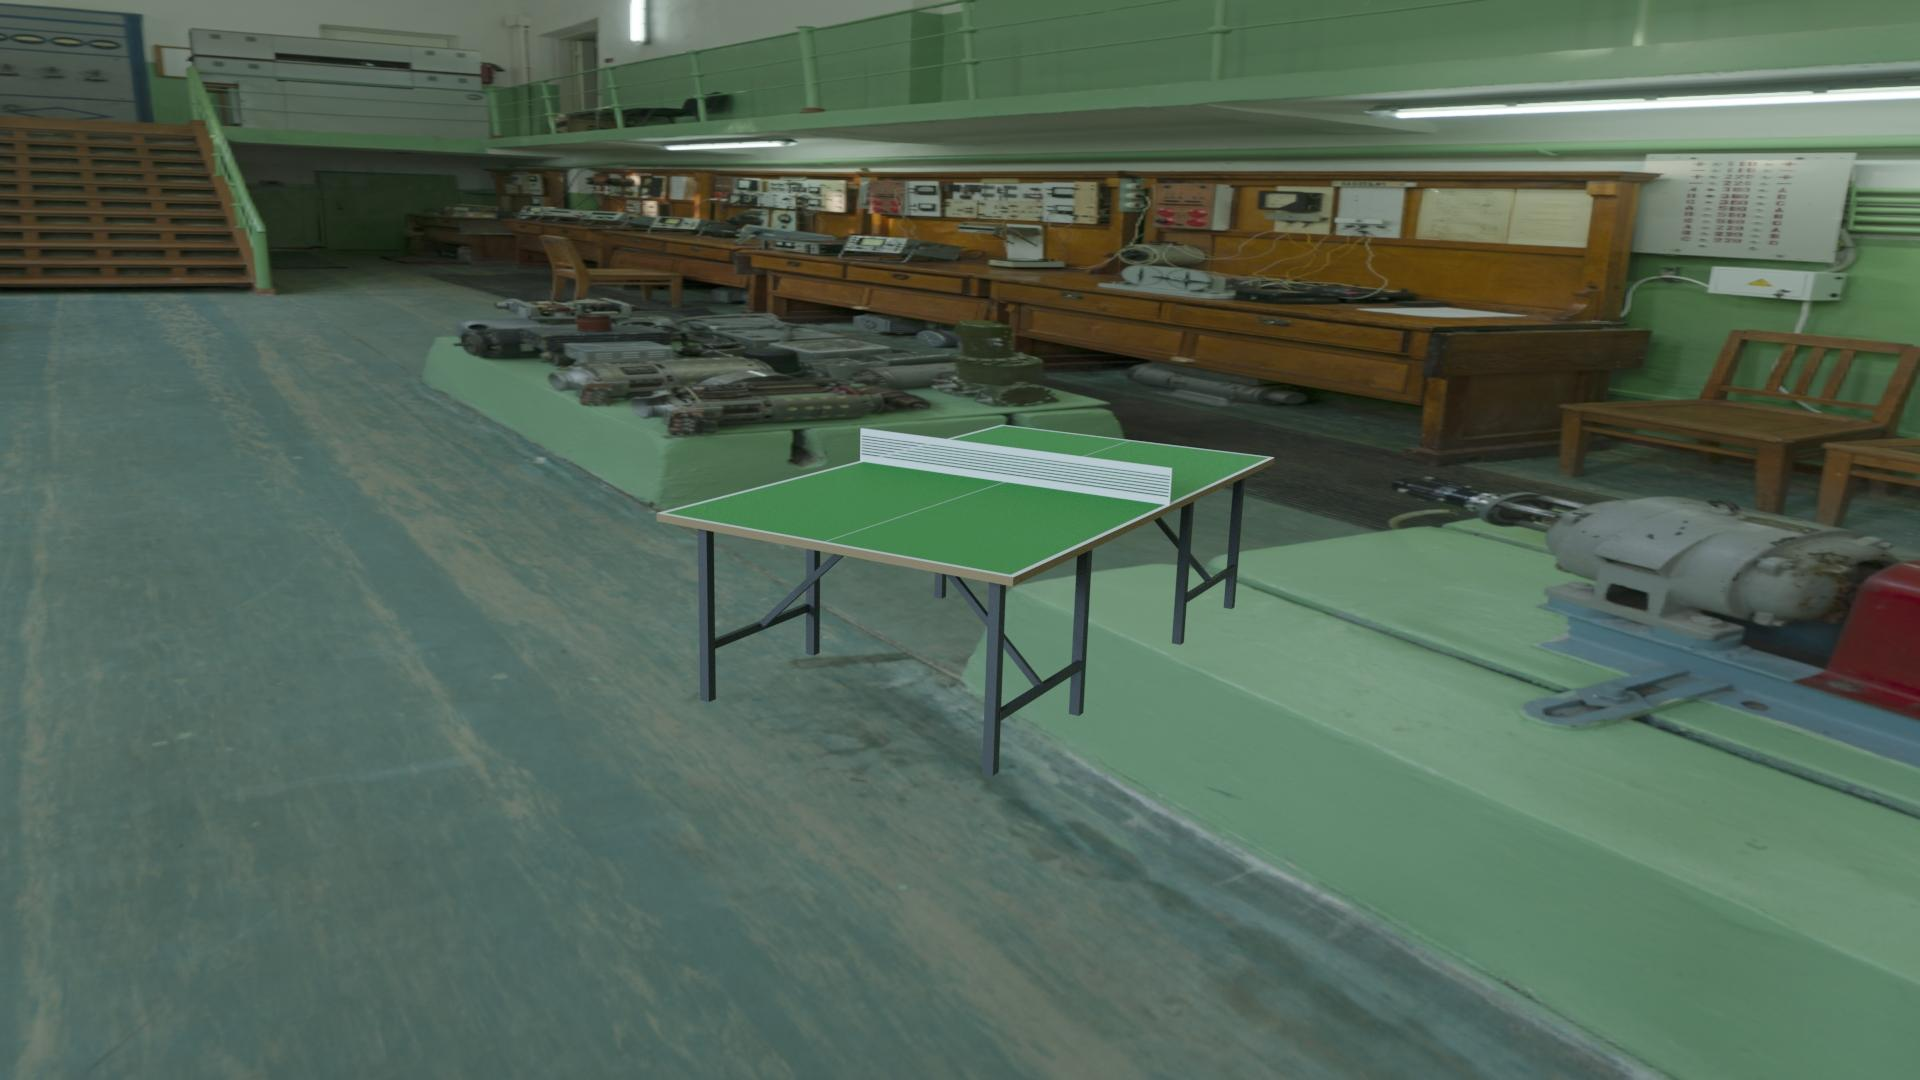table: (665, 426, 1270, 575)
